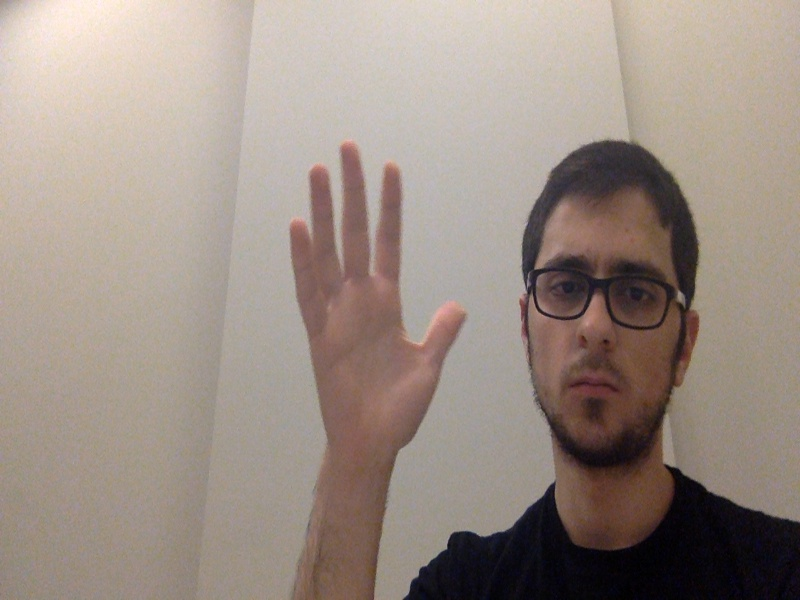5-hand: (286, 141, 476, 450)
